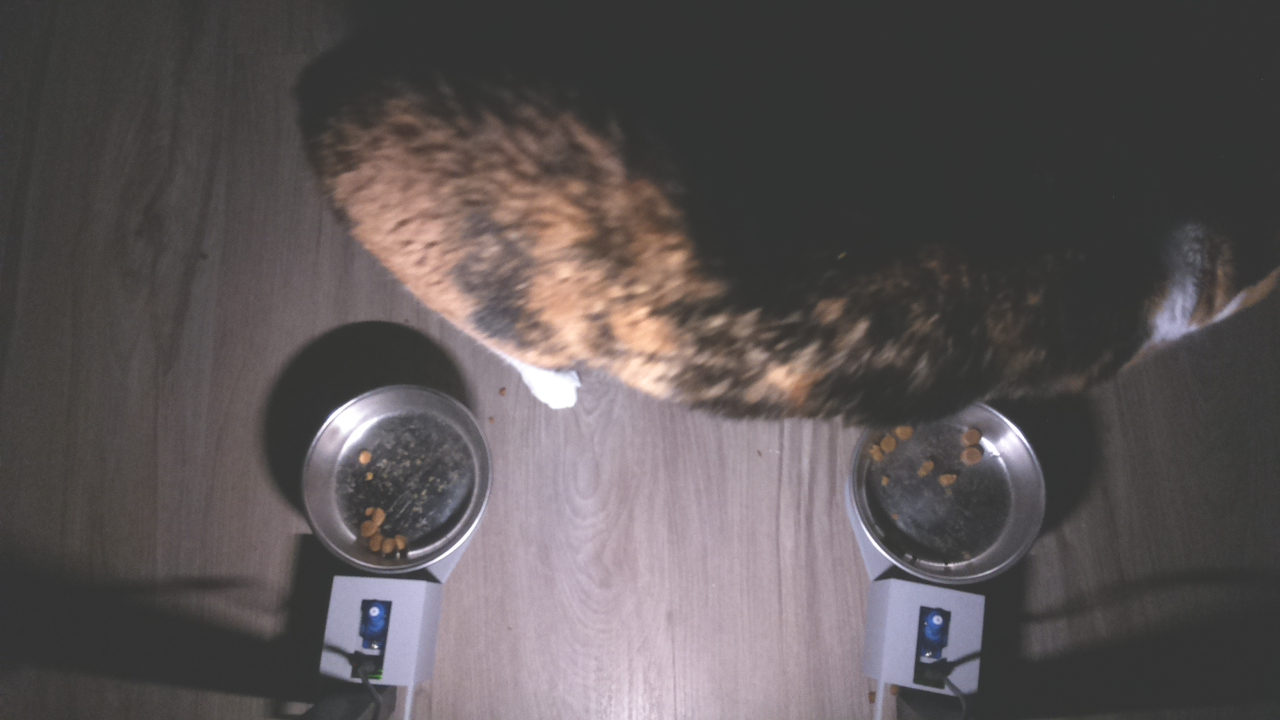open_bowl: (293, 377, 501, 572), (845, 412, 1066, 589)
